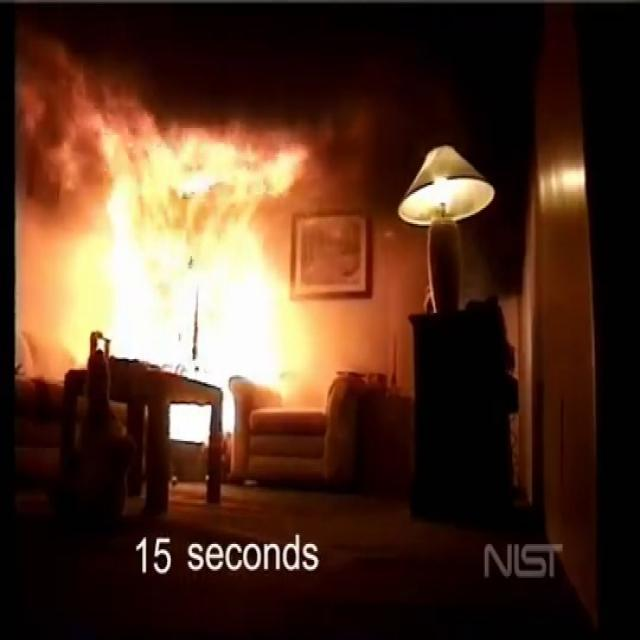Fire: (44, 103, 341, 423)
